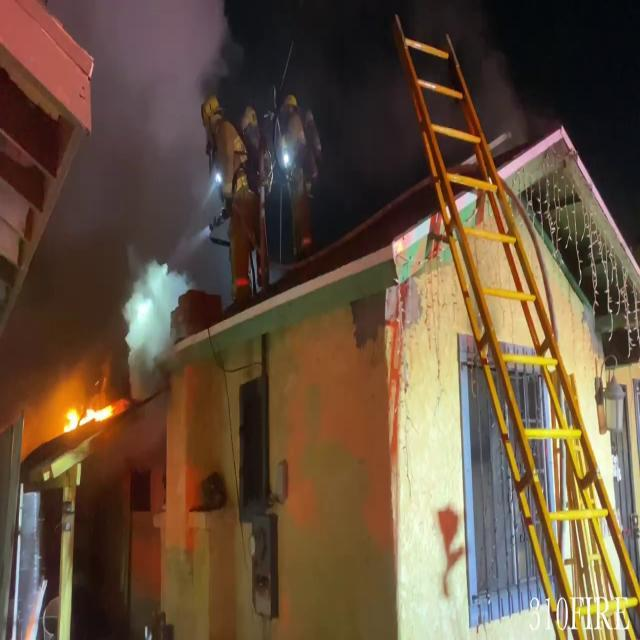Fire: (57, 389, 121, 443)
Smoke: (61, 0, 250, 265)
